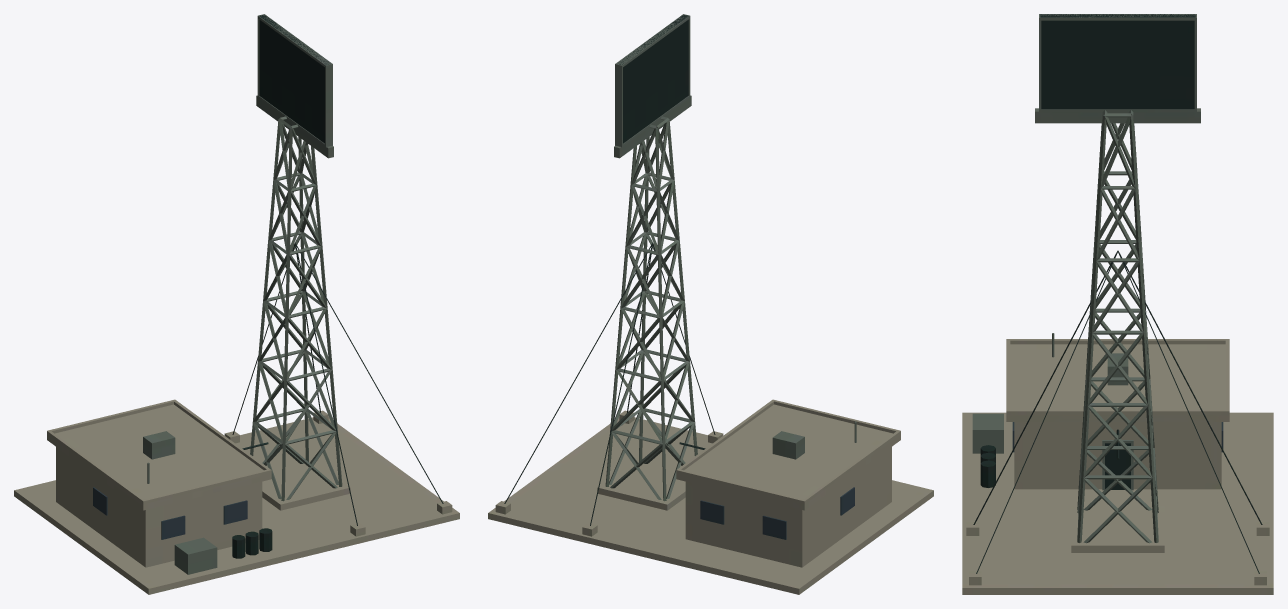
Rendered from radio-radar-station.glb.
The picture shows the model from 3 angles, left to right: view 1: azimuth 30°, elevation 25°; view 2: azimuth 150°, elevation 25°; view 3: azimuth 270°, elevation 25°; orthographic projection. The views are drawn at different scales.
Visible parts, largest first — view 1: radio-radar-station_concrete; view 2: radio-radar-station_concrete; view 3: radio-radar-station_concrete.
Part boxes in pixels (x1,y1,x2,y2): radio-radar-station_concrete: (14, 14, 459, 594); radio-radar-station_concrete: (488, 14, 933, 594); radio-radar-station_concrete: (962, 14, 1273, 594).
Size of the model in its own units: 16 by 22.3 by 12.
1 material, 1 textured.
